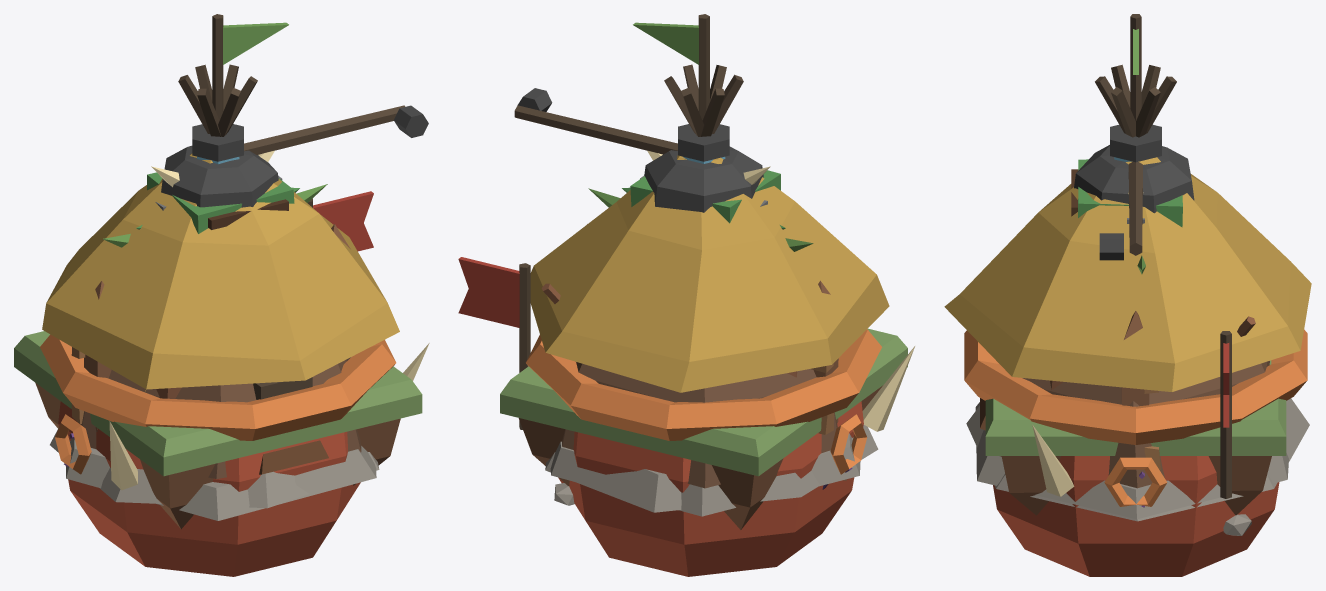
Rendered from assets.glb.
The picture shows the model from 3 angles, left to right: view 1: azimuth 30°, elevation 25°; view 2: azimuth 150°, elevation 25°; view 3: azimuth 270°, elevation 25°; orthographic projection.
Parts seen in each view (by area): view 1: base_goblin_mesh, pot_body, base_orc_mesh, pot_detail, land_mesh, orc_body, pan_arm_mesh, air_defence_mast_mesh, fence_mesh; view 2: base_goblin_mesh, pot_body, base_orc_mesh, pot_detail, land_mesh, orc_body, pan_arm_mesh, air_defence_mast_mesh, fence_mesh; view 3: base_goblin_mesh, pot_body, pot_detail, base_orc_mesh, land_mesh, orc_body, pan_arm_mesh, air_defence_mast_mesh, fence_mesh.
Boxes of the visible parts, x1,y1,x2,y2 form: base_goblin_mesh: [42, 14, 399, 508]; pot_body: [58, 401, 360, 576]; base_orc_mesh: [66, 64, 429, 520]; pot_detail: [40, 334, 396, 474]; land_mesh: [14, 331, 422, 529]; orc_body: [136, 145, 299, 233]; pan_arm_mesh: [244, 105, 428, 154]; air_defence_mast_mesh: [192, 124, 243, 164]; fence_mesh: [71, 224, 350, 431]; base_goblin_mesh: [530, 14, 889, 512]; pot_body: [558, 401, 863, 576]; base_orc_mesh: [458, 64, 914, 516]; pot_detail: [526, 283, 881, 474]; land_mesh: [500, 328, 907, 529]; orc_body: [622, 146, 785, 229]; pan_arm_mesh: [514, 88, 677, 154]; air_defence_mast_mesh: [678, 124, 729, 163]; fence_mesh: [587, 224, 838, 434]; base_goblin_mesh: [944, 14, 1311, 521]; pot_body: [993, 456, 1279, 576]; pot_detail: [964, 316, 1307, 506]; base_orc_mesh: [975, 64, 1288, 519]; land_mesh: [985, 360, 1286, 535]; orc_body: [1071, 145, 1194, 227]; pan_arm_mesh: [1099, 161, 1142, 260]; air_defence_mast_mesh: [1110, 124, 1161, 162]; fence_mesh: [1121, 311, 1160, 469].
Size of the model in its own units: 1.39 by 1.9 by 1.22.
